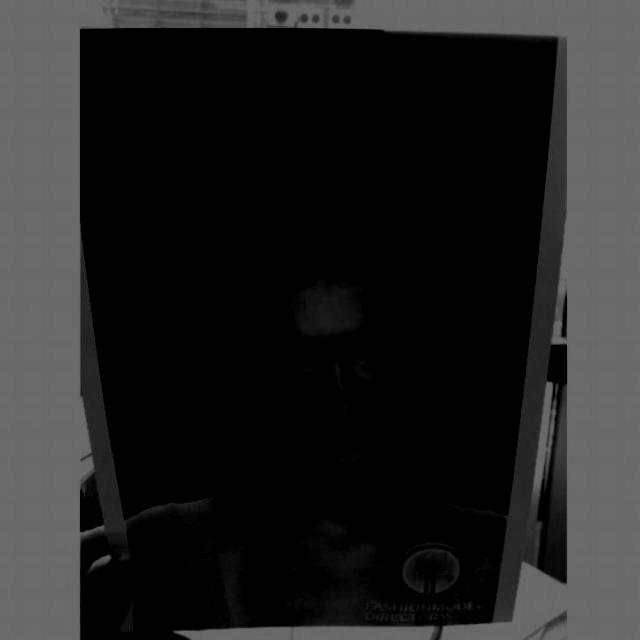fake: (80, 18, 566, 640)
